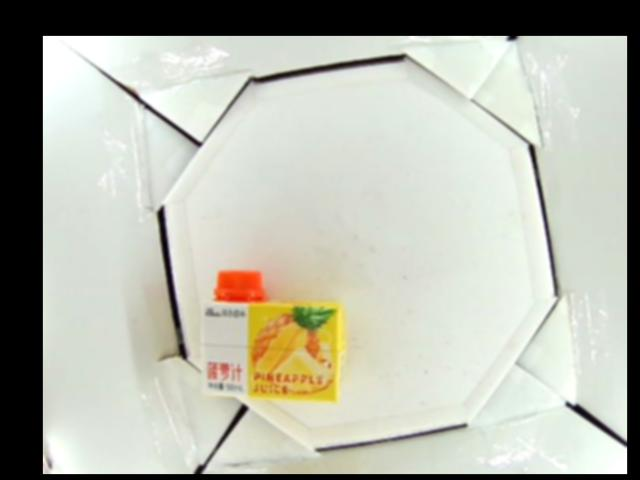Bottle: (200, 268, 343, 398)
